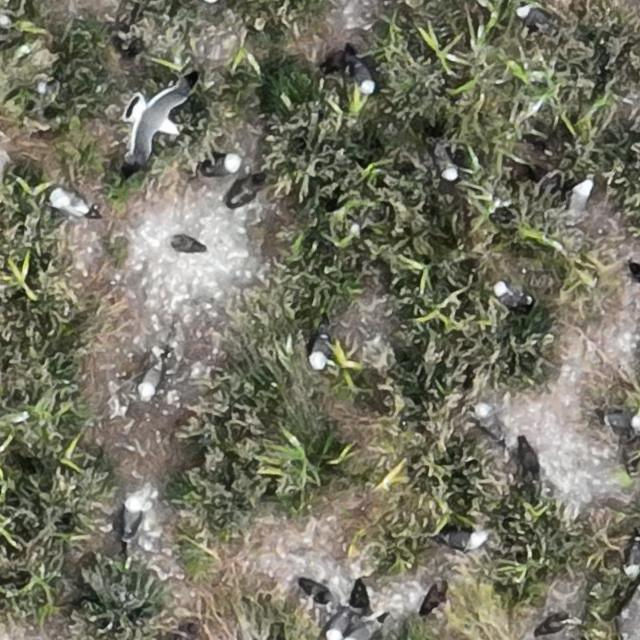F: (125, 86, 187, 163)
umineko: (474, 400, 506, 443), (122, 496, 142, 542), (138, 361, 162, 397), (443, 532, 485, 552), (52, 191, 87, 214), (516, 6, 548, 30), (327, 605, 349, 638), (310, 332, 330, 368), (570, 180, 592, 212), (496, 284, 526, 307), (354, 61, 376, 92), (605, 411, 638, 430), (210, 155, 241, 175), (438, 157, 459, 180), (625, 540, 639, 571)
